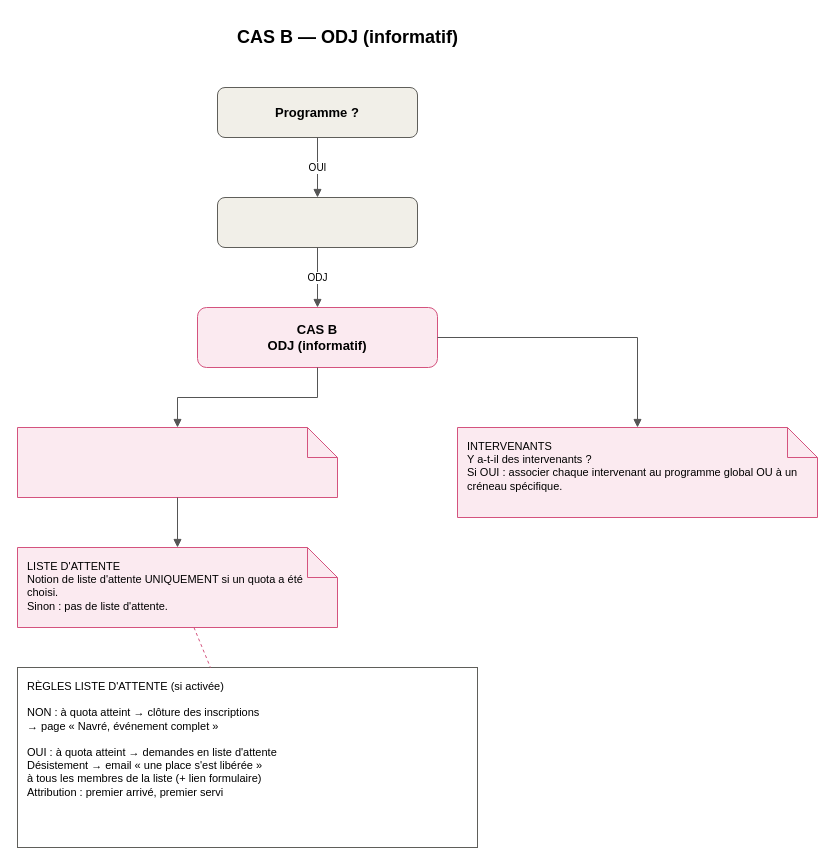
The diagram is 835 pixels wide and 865 high, and some of its shapes have lost their labels. Here are the shapes that lost their labels. From the top down, the box of each, then its label:
(216, 196, 418, 248): Type ?
(16, 426, 338, 498): QUOTA Facultatif — l'utilisateur choisit d'appliquer un quota ou non
